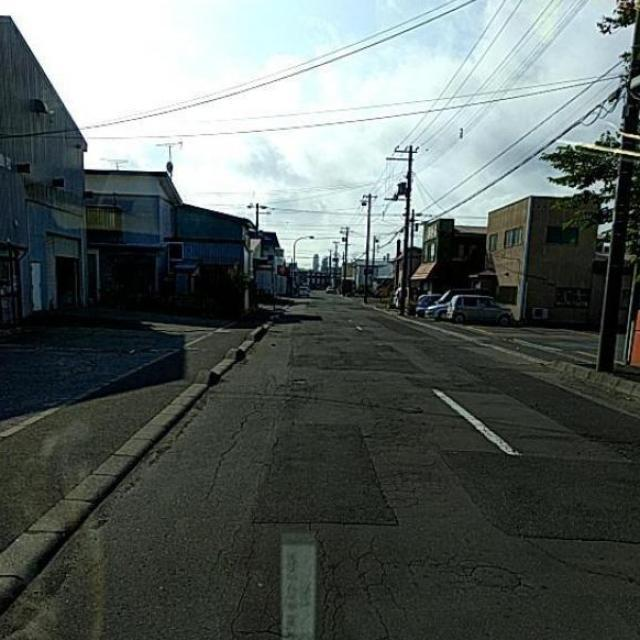Sambungan: (447, 452, 640, 545), (251, 422, 395, 522)
